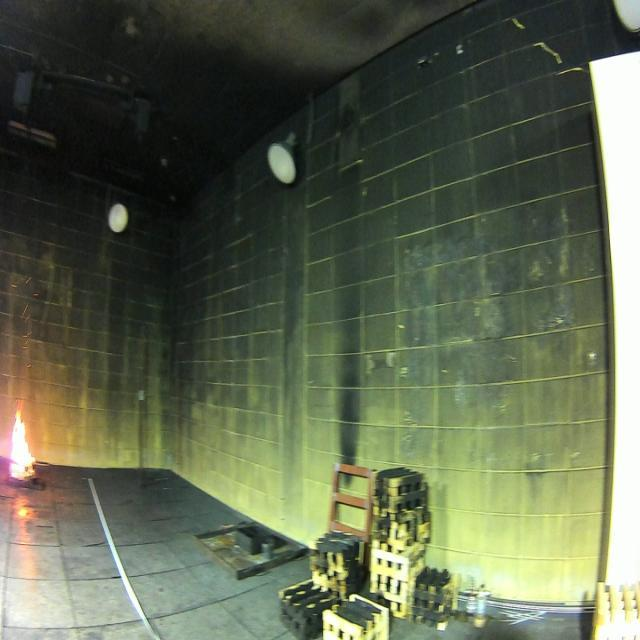Fire: (10, 408, 36, 480)
